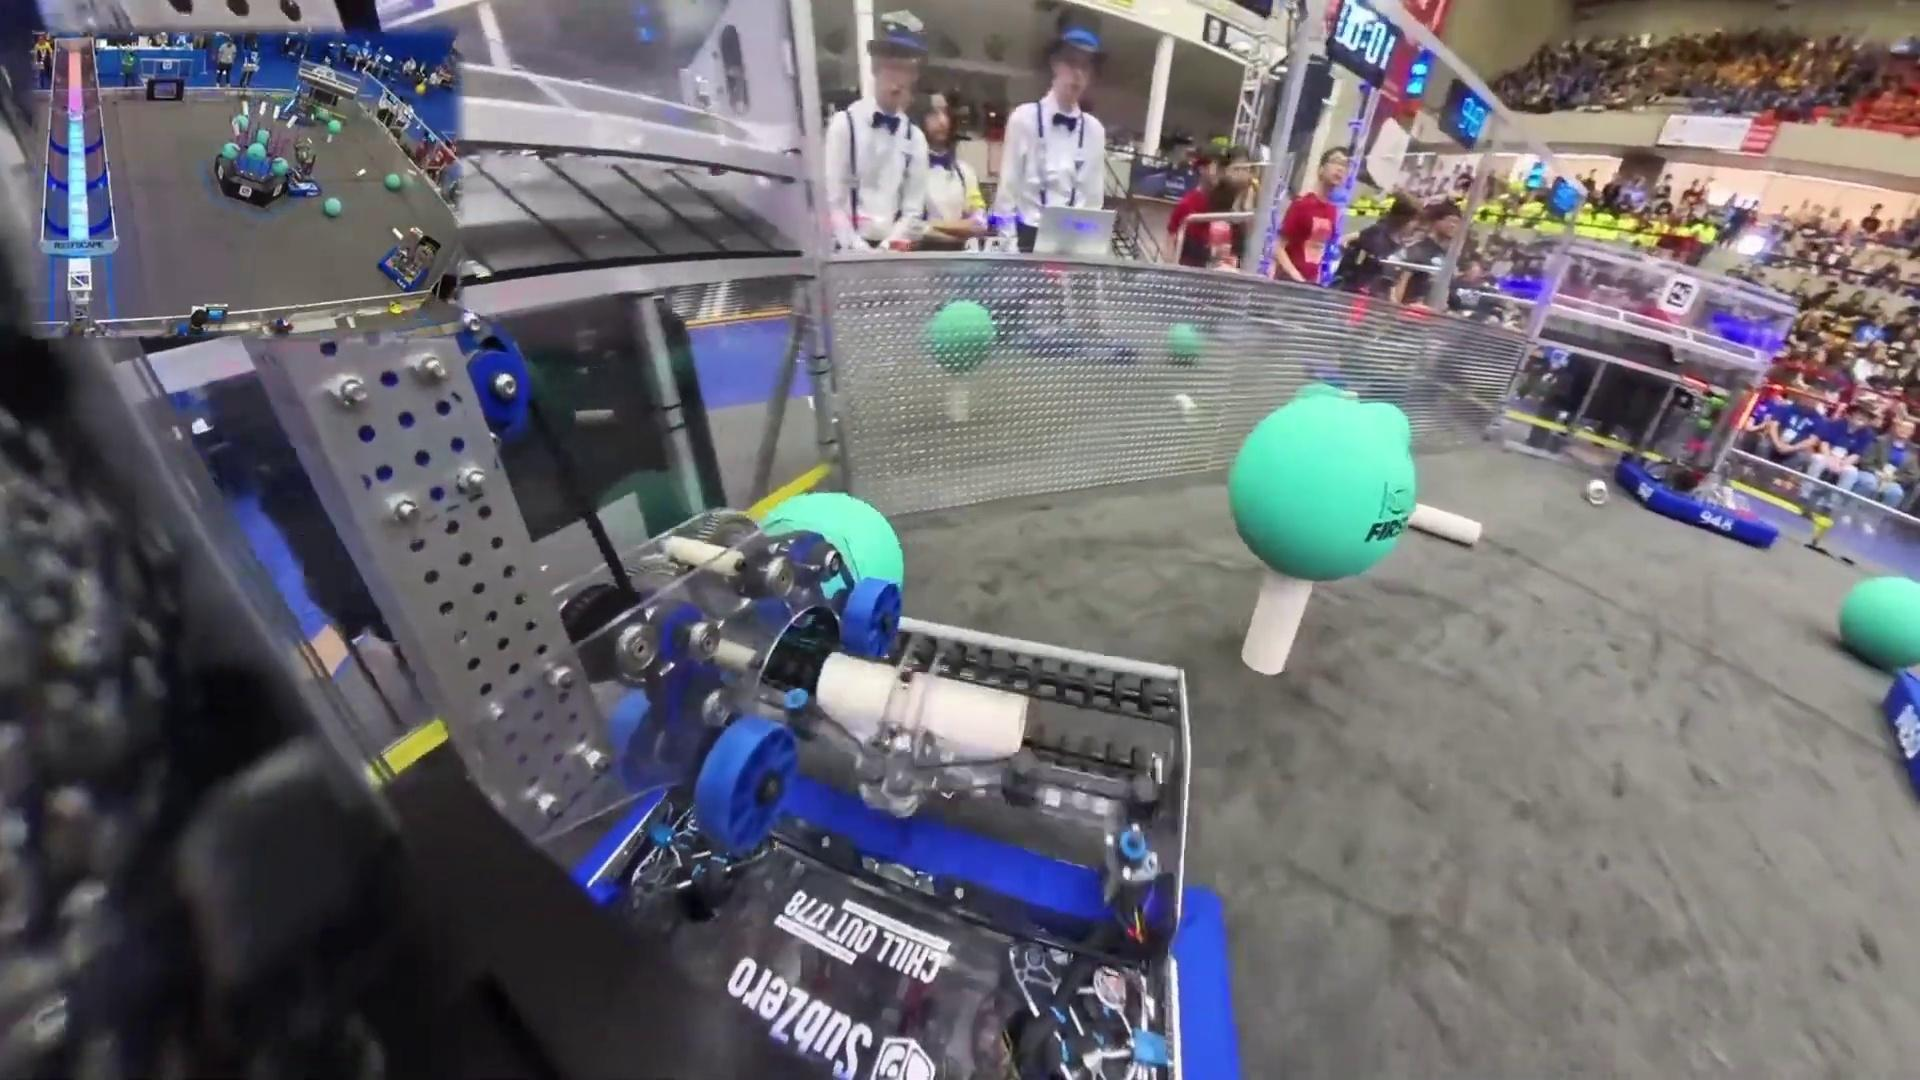robot: (1615, 372, 1782, 554), (1880, 667, 1920, 806), (377, 222, 442, 287), (286, 144, 324, 200)
